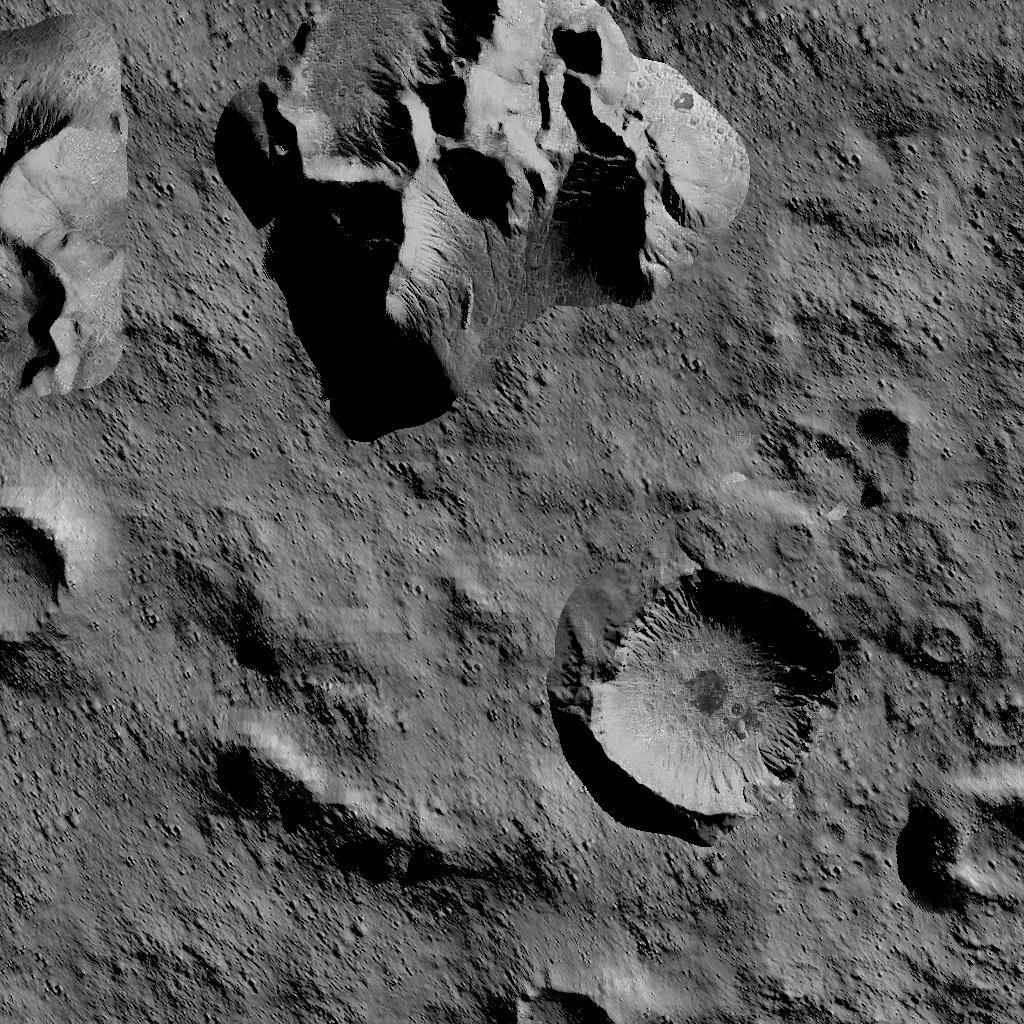Boulders: (218, 0, 748, 443), (213, 725, 543, 898), (0, 20, 133, 405)
Crater: (578, 559, 848, 833), (898, 765, 1024, 918), (0, 498, 83, 650), (501, 980, 623, 1024)
Plan surface: (766, 0, 1024, 400), (0, 665, 203, 1024), (218, 910, 490, 1024)
